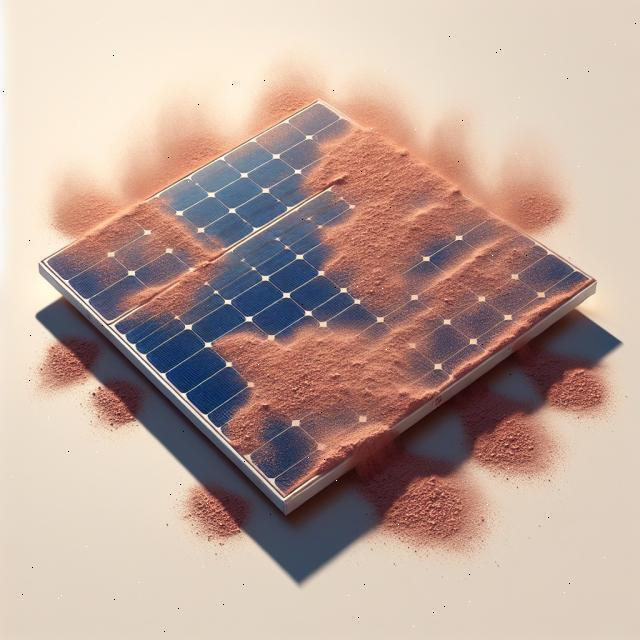Anomaly Solar Panel: (40, 101, 595, 499)
Surface Contaminant: (117, 59, 593, 505), (55, 166, 236, 346)
